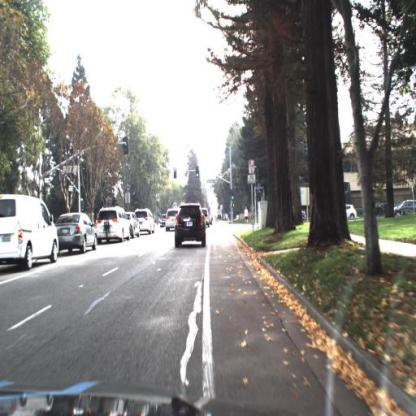car: (1, 195, 62, 268), (172, 202, 209, 253), (58, 211, 98, 254), (95, 207, 132, 243), (138, 207, 156, 235), (374, 196, 390, 223), (343, 201, 360, 222)
trafficLight-Green: (253, 167, 259, 187), (195, 166, 201, 180), (231, 191, 236, 204)
trafficLight-RedLeft: (173, 168, 178, 181)
